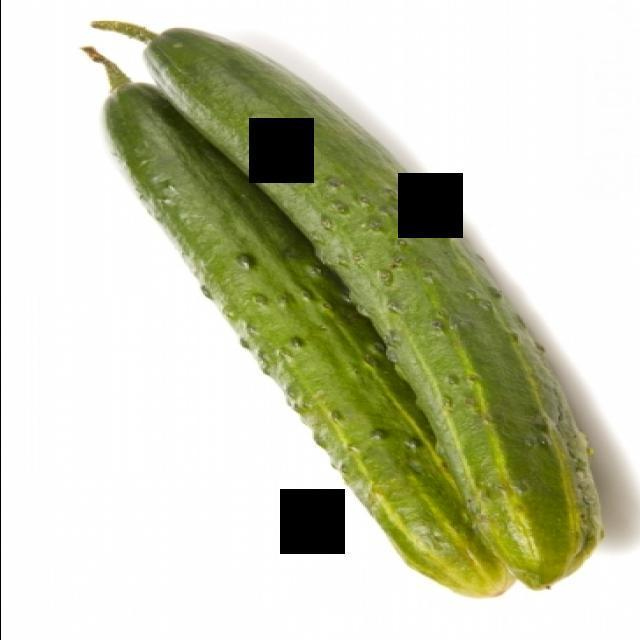cucumber: (70, 19, 640, 602)
